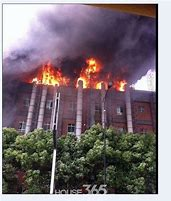smoke: (2, 4, 155, 80)
